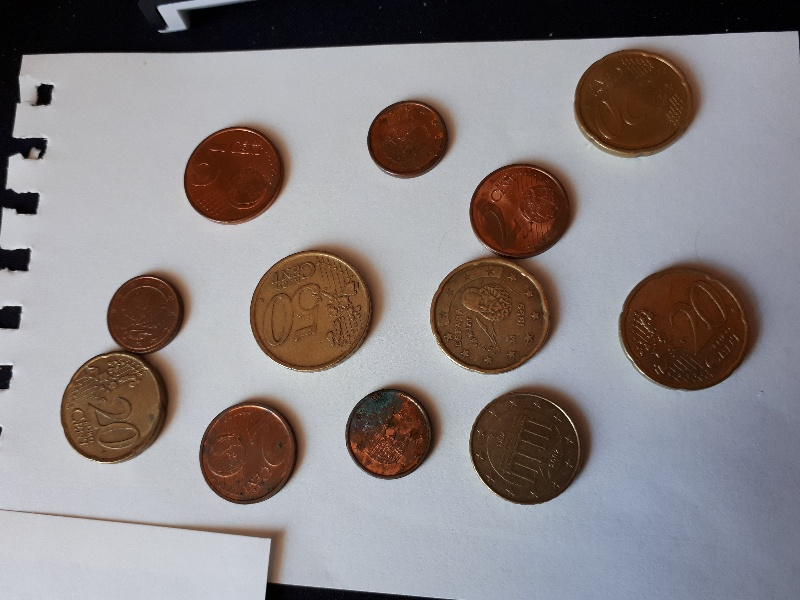1 cent: (343, 387, 437, 483), (104, 273, 186, 358), (365, 101, 450, 180)
10 cent: (467, 391, 585, 510)
2 cent: (198, 400, 300, 505), (467, 163, 574, 259)
20 cent: (616, 264, 752, 396), (427, 257, 554, 377), (572, 47, 697, 160), (57, 353, 172, 468)
5 cent: (180, 124, 288, 227)
50 cent: (248, 248, 375, 373)
